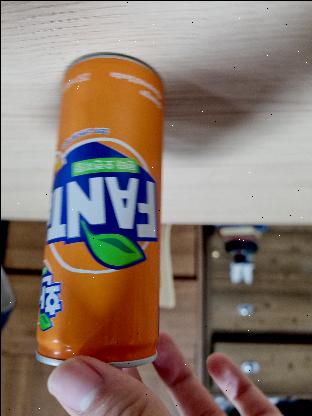Can: (36, 48, 162, 364)
